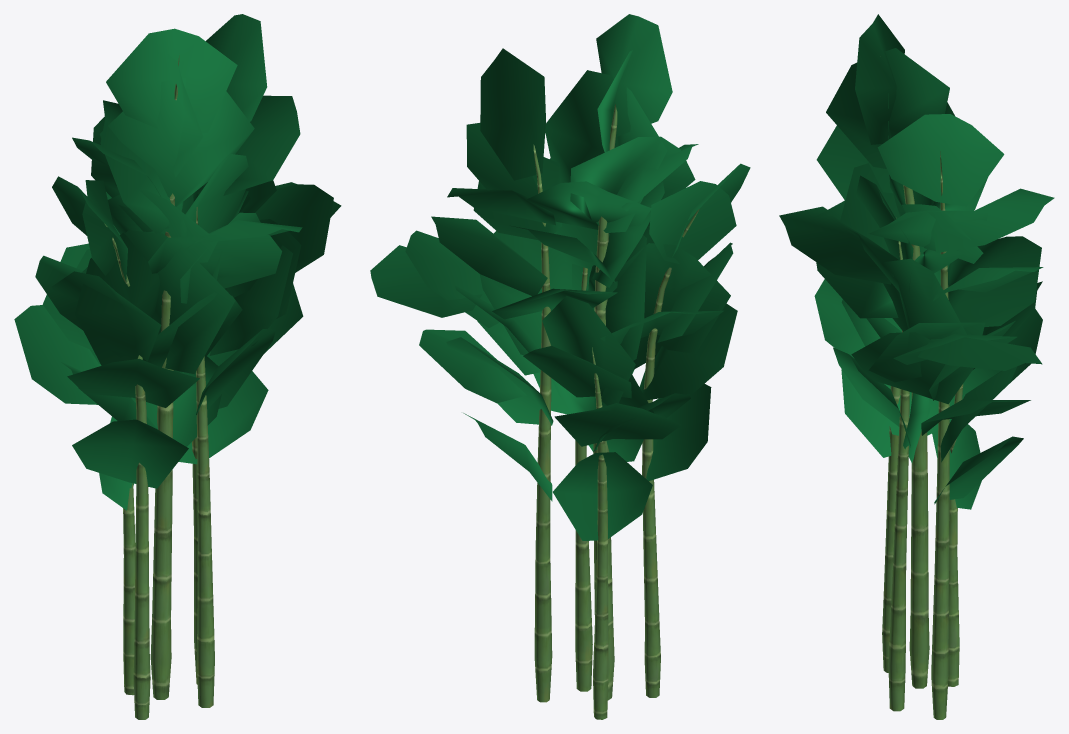
Rendered from SM_BambooSaplingClump1.fbx.
3 views of the same model, side by side, from view 1: azimuth 30°, elevation 25°; view 2: azimuth 150°, elevation 25°; view 3: azimuth 270°, elevation 25° (orthographic). The views are drawn at different scales.
Visible parts, largest first — view 1: SM_BambooSaplingClump1_LOD0; view 2: SM_BambooSaplingClump1_LOD0; view 3: SM_BambooSaplingClump1_LOD0.
Part boxes in pixels (bbox=[...]): SM_BambooSaplingClump1_LOD0: bbox=[14, 14, 341, 719]; SM_BambooSaplingClump1_LOD0: bbox=[370, 14, 750, 719]; SM_BambooSaplingClump1_LOD0: bbox=[779, 14, 1054, 719].
Size of what is drawn, in the model's own units: 5.4 by 4.28 by 11.38.
